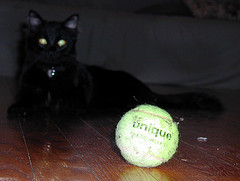tennis ball: (114, 103, 181, 170)
